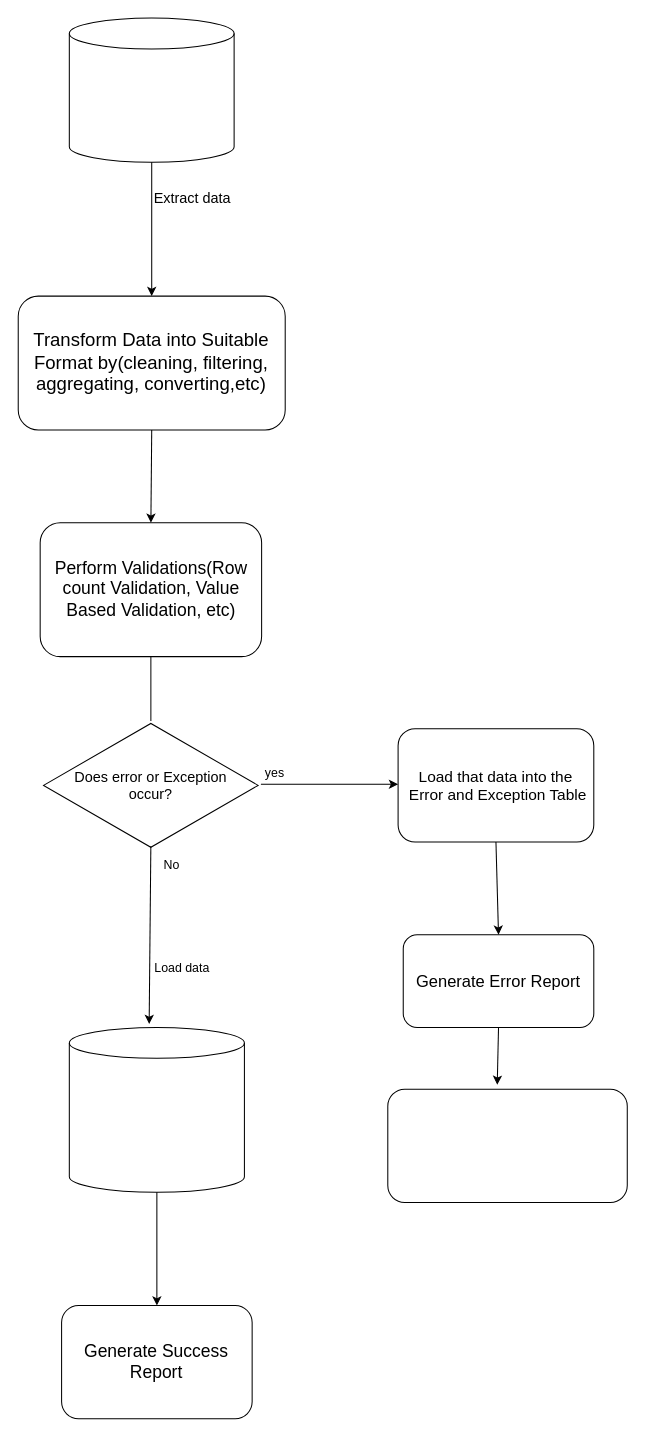
This 646x1437 diagram has some shape labels left out. Here are the shapes that lost their labels. From the top down, the centre of each, then its label:
At point 151,89: "Source System".
At point 156,1109: "Target System".
At point 507,1145: "Send Automated Email to Support".
